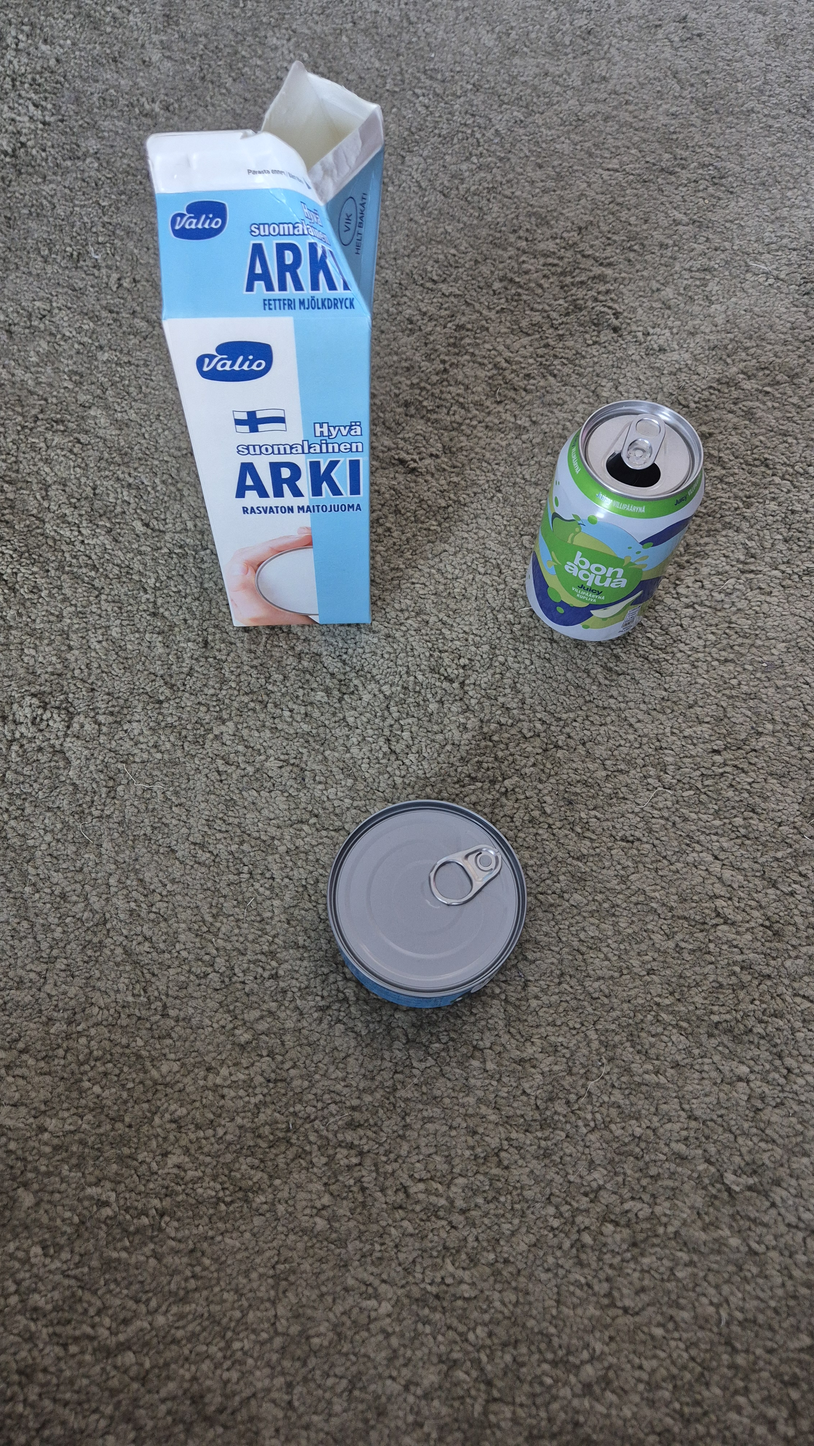Dryckeskartong: (146, 61, 384, 627)
Konservburk: (327, 800, 526, 1007)
Pantburk: (525, 400, 705, 641)
